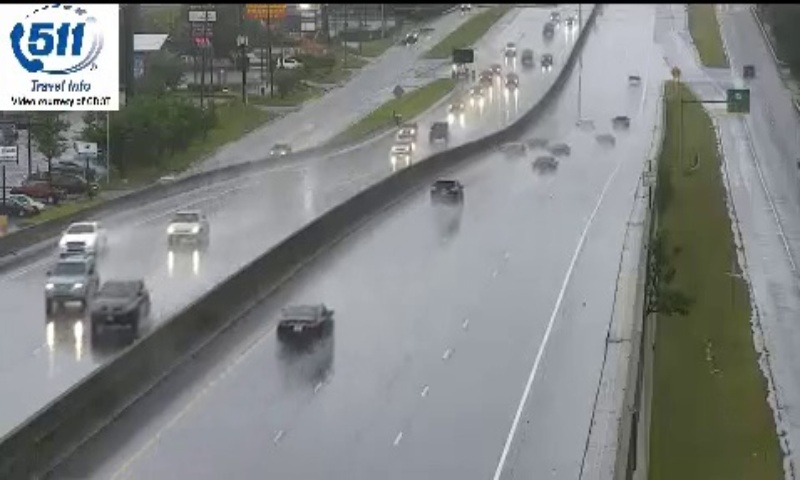car: (276, 304, 333, 344), (429, 179, 462, 209)
